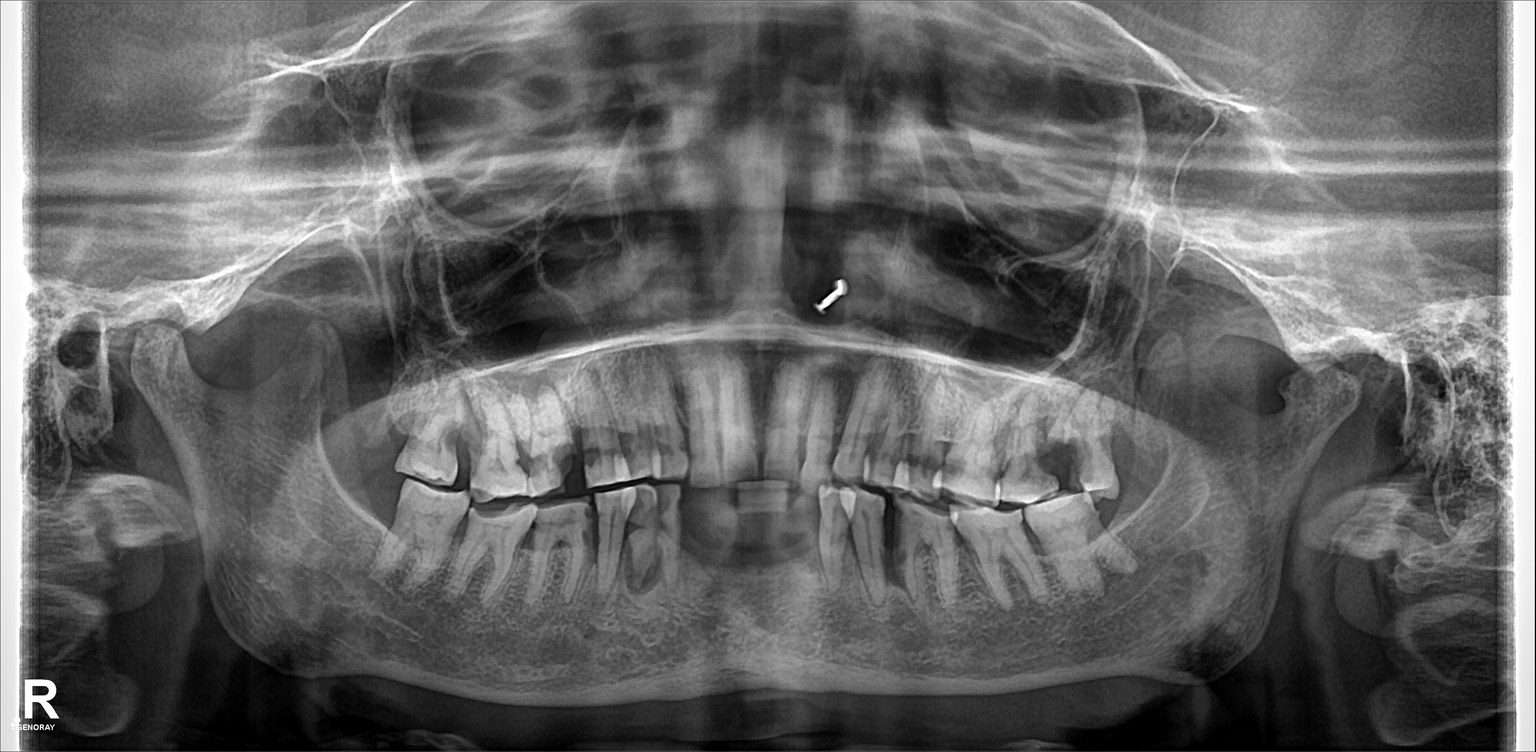Dental Caries: (1030, 430, 1083, 481), (441, 426, 477, 460), (635, 484, 672, 517), (551, 441, 575, 474), (508, 449, 539, 472), (579, 445, 605, 469)
Missing Tooth: (747, 490, 800, 585), (700, 488, 745, 585), (350, 473, 398, 556), (365, 396, 416, 468)
